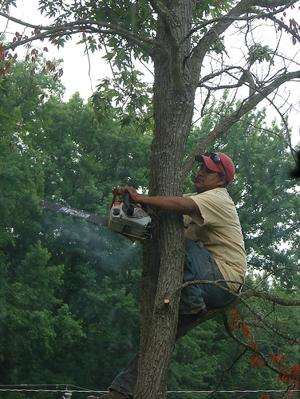person: (87, 150, 249, 397)
